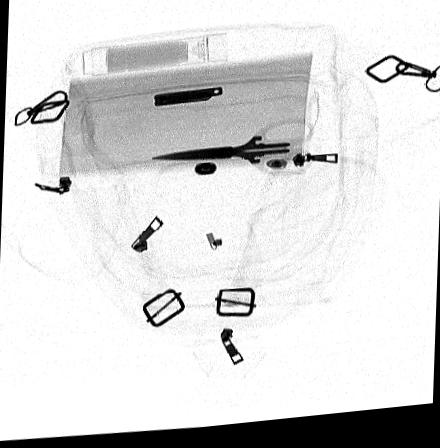Scissors: (145, 118, 319, 187)
